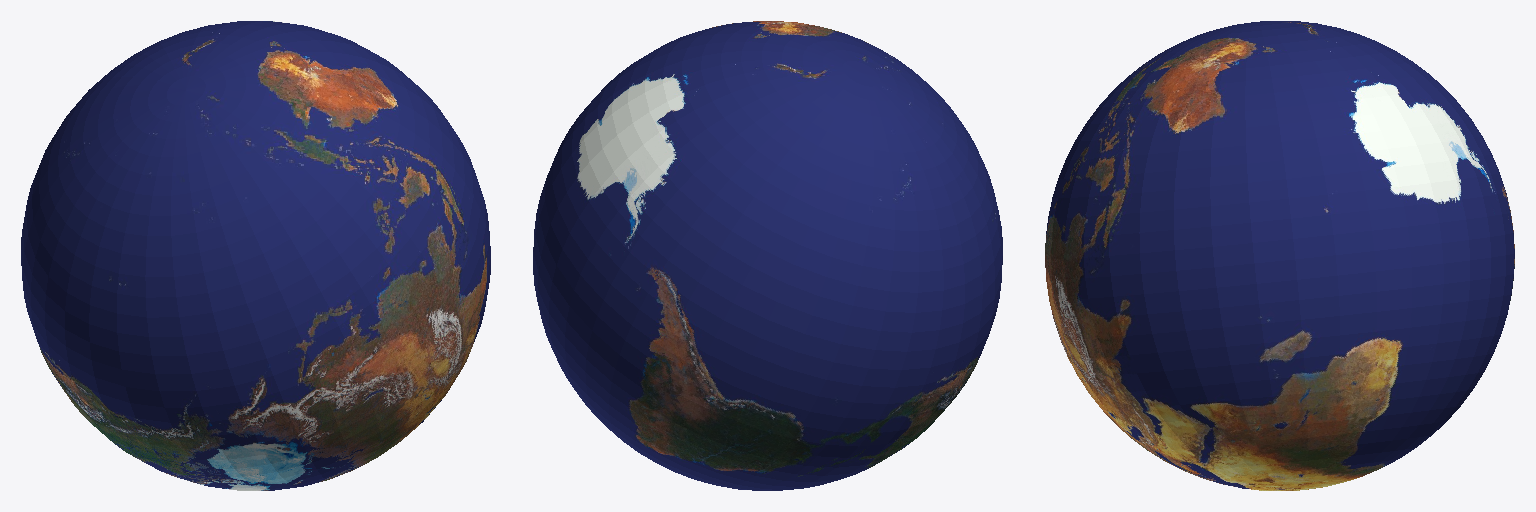
3 renders of one model, left to right at view 1: azimuth 30°, elevation 25°; view 2: azimuth 150°, elevation 25°; view 3: azimuth 270°, elevation 25°, orthographic.
Visible parts, largest first — view 1: Sphere_Sphere.002; view 2: Sphere_Sphere.002; view 3: Sphere_Sphere.002.
Boxes of the visible parts, box(x1,y1,x2,y2) form: Sphere_Sphere.002: box(21, 21, 490, 490); Sphere_Sphere.002: box(533, 21, 1002, 490); Sphere_Sphere.002: box(1045, 21, 1514, 490).
Size of the model in its own units: 0.998 by 0.9999 by 0.9978.
Materials: 1 (1 with a texture image).